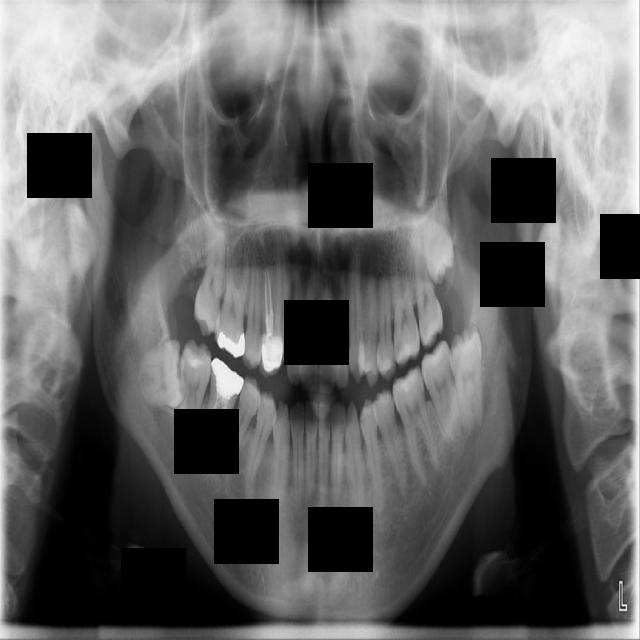52: (193, 355, 255, 415), (213, 296, 246, 360), (255, 326, 285, 379)
73: (190, 396, 237, 475), (258, 234, 281, 332), (584, 549, 589, 555)
BioHorizons Implant: (404, 206, 447, 351)
BioLife Implant: (383, 193, 472, 287)
Biomet 3i Implant: (450, 325, 484, 430)
Blue Sky Bio Implant: (416, 339, 470, 452)
Caries: (190, 203, 237, 339)
Implant: (177, 338, 213, 451)
Keystone Dental Implant: (135, 339, 187, 411)
